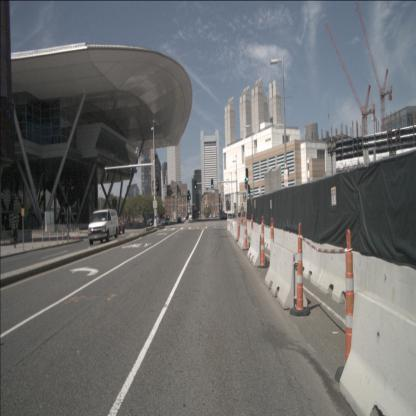barrier: (339, 290, 416, 416), (318, 244, 374, 319), (368, 256, 415, 343), (264, 242, 308, 310), (297, 238, 333, 287), (283, 231, 306, 270), (247, 230, 267, 268), (250, 223, 272, 251), (270, 230, 286, 258), (238, 225, 248, 250), (229, 220, 238, 241), (246, 221, 251, 237), (227, 218, 232, 233)
cone: (335, 230, 363, 384), (290, 222, 310, 316), (258, 215, 267, 268), (243, 216, 248, 251), (270, 218, 275, 252), (250, 214, 254, 237), (237, 216, 240, 242), (226, 211, 230, 230), (240, 213, 243, 233), (41, 224, 44, 234)
